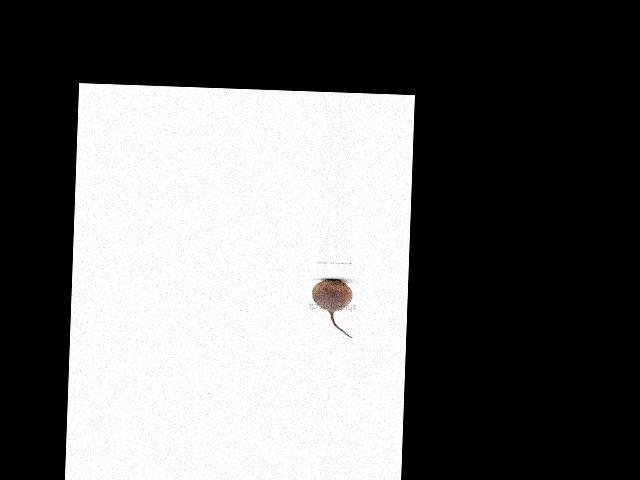beet: (309, 278, 354, 338)
